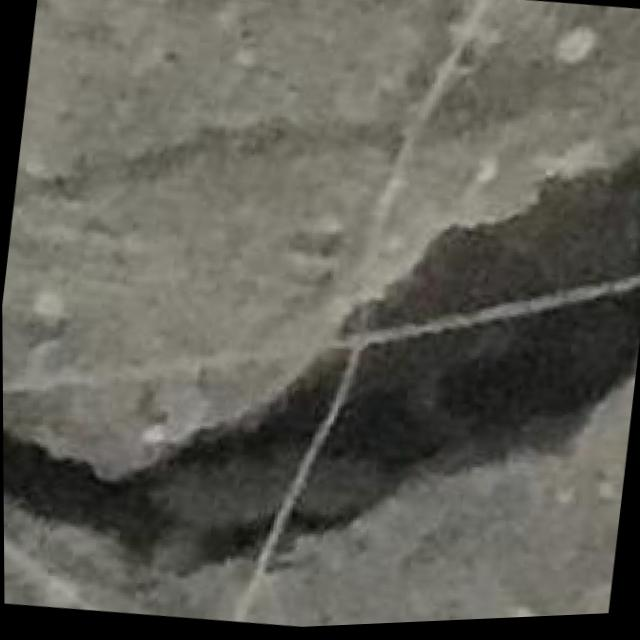Crack: (1, 81, 640, 640)
